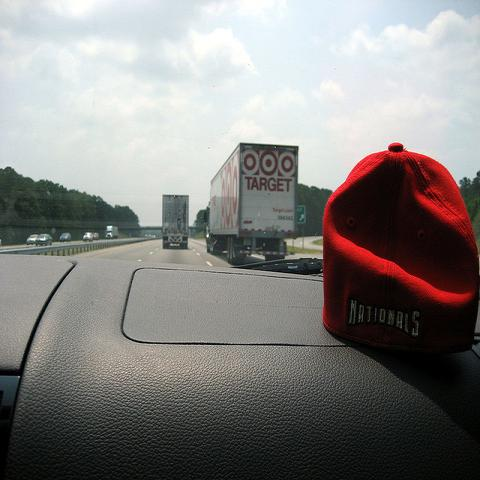car: (35, 234, 53, 247), (26, 234, 39, 246), (59, 233, 72, 243), (84, 232, 94, 243), (93, 233, 99, 238), (0, 238, 2, 247)
truck: (204, 144, 300, 270), (162, 194, 189, 250), (106, 226, 118, 238)
